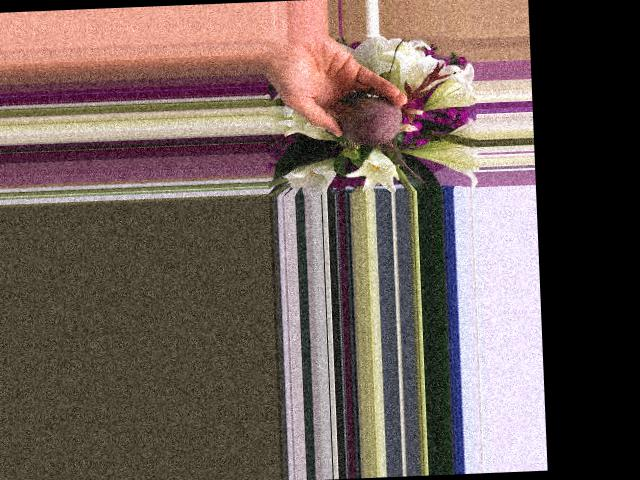beet: (337, 87, 429, 190)
